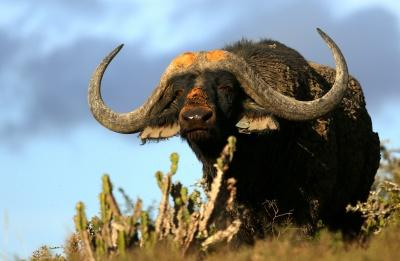buffalo: (88, 28, 379, 247)
